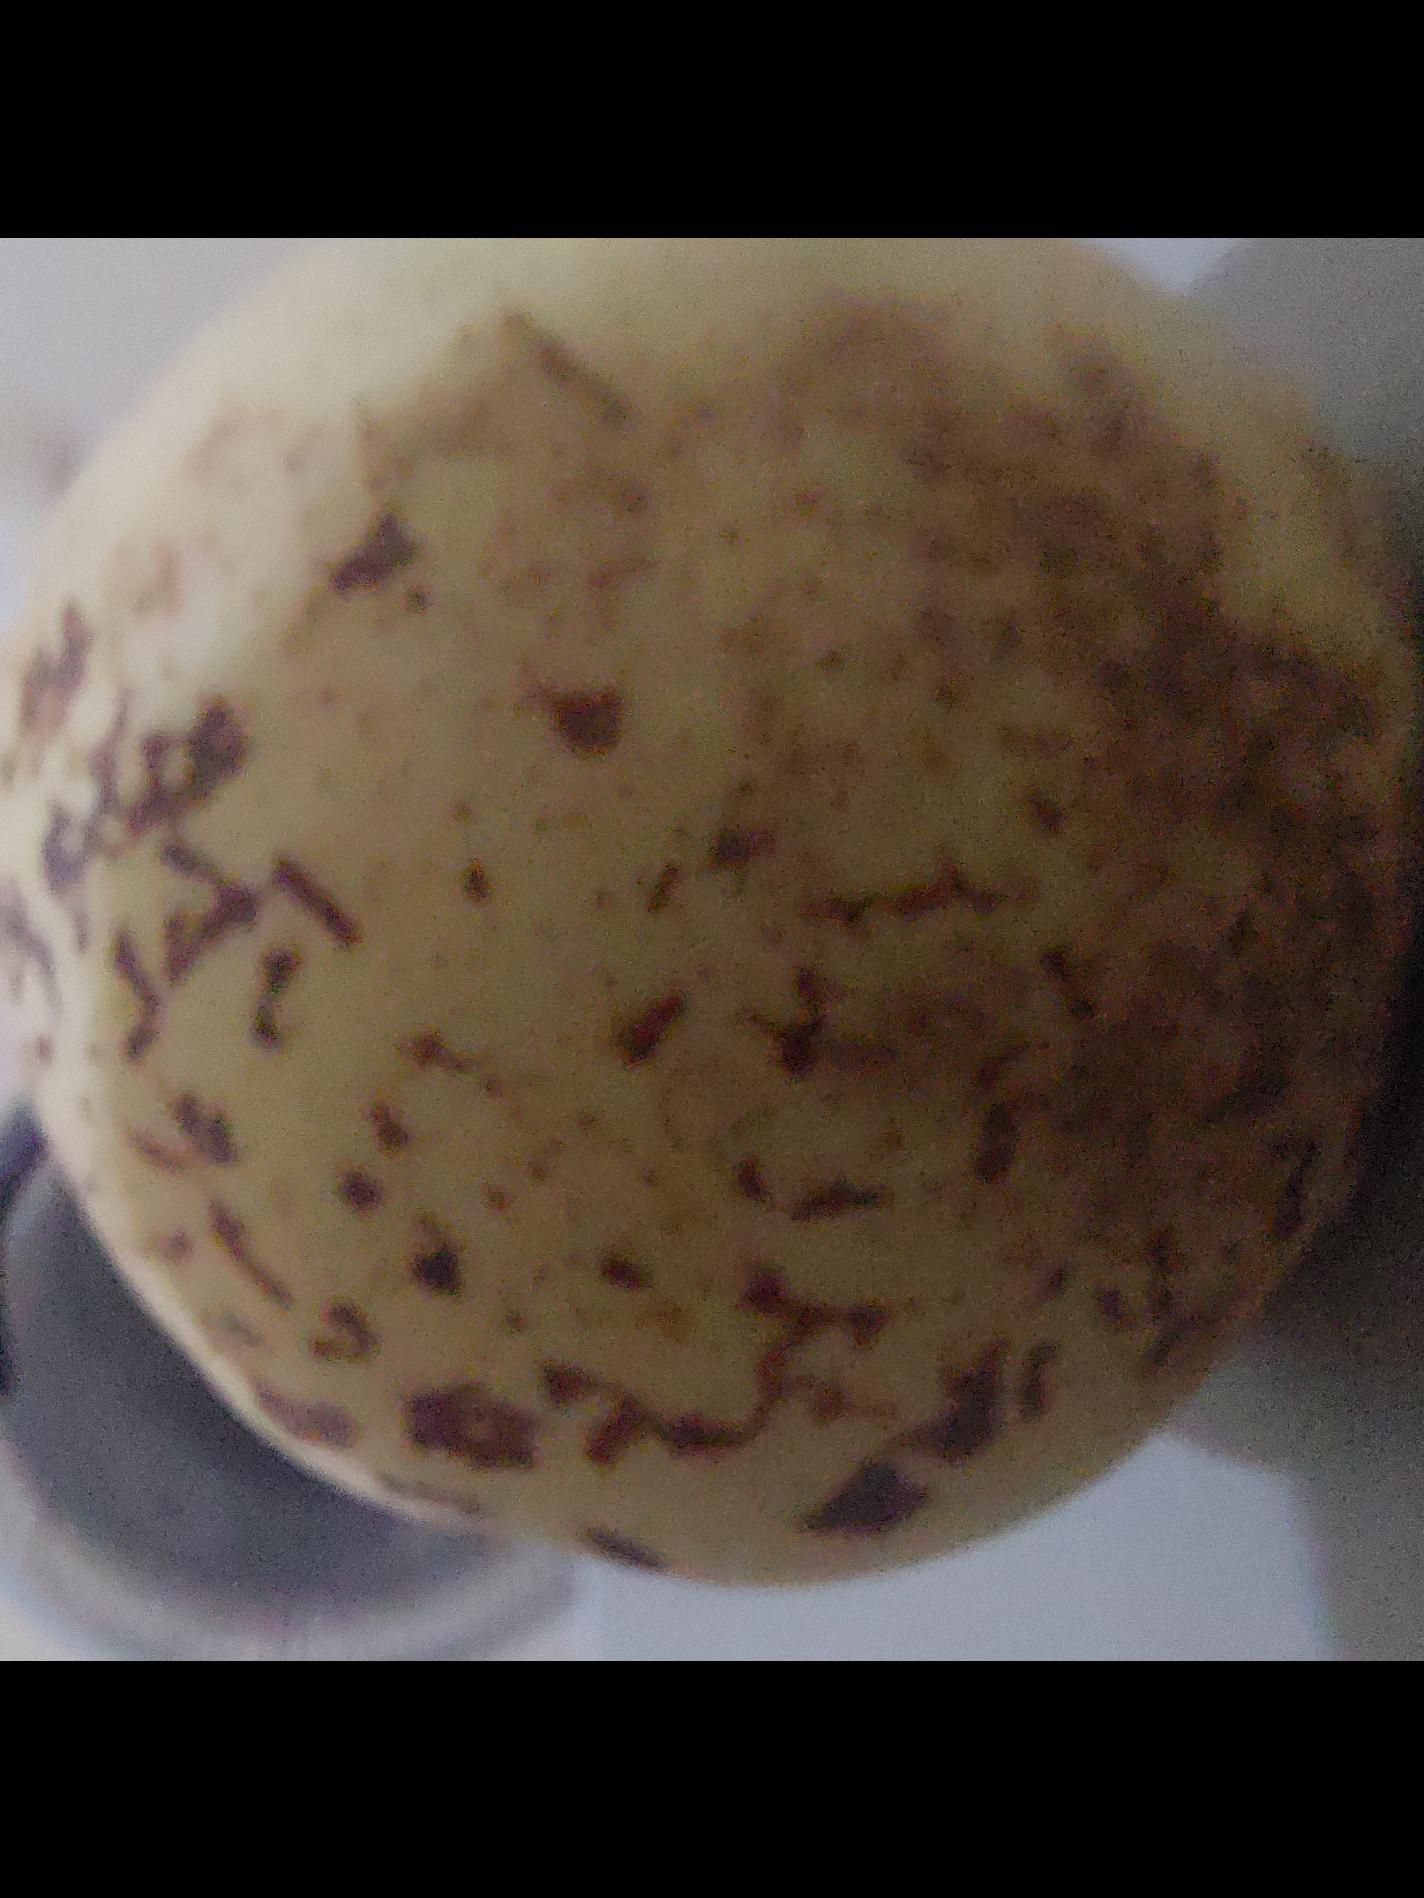Bad Pear: (0, 236, 1424, 1588)
